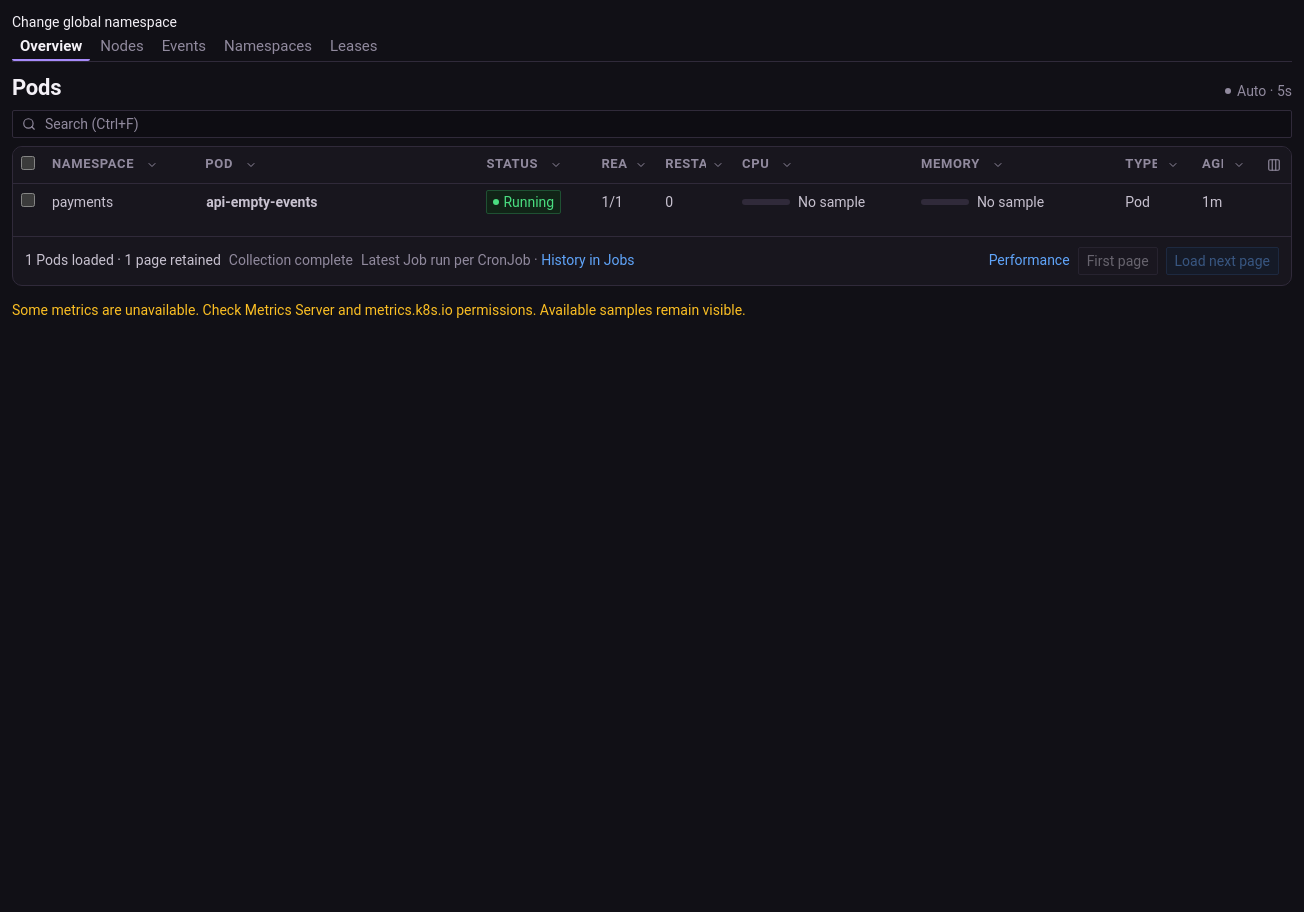
Test case: read-only resource pages › opens a Pod whose relatedEvents is null without blanking the page
What coordinates should you click on to do the following:
click the button with aria-label "Open Pod api-empty-events in payments"
I would click on:
 (262, 202)
Its box is [197, 188, 326, 216].
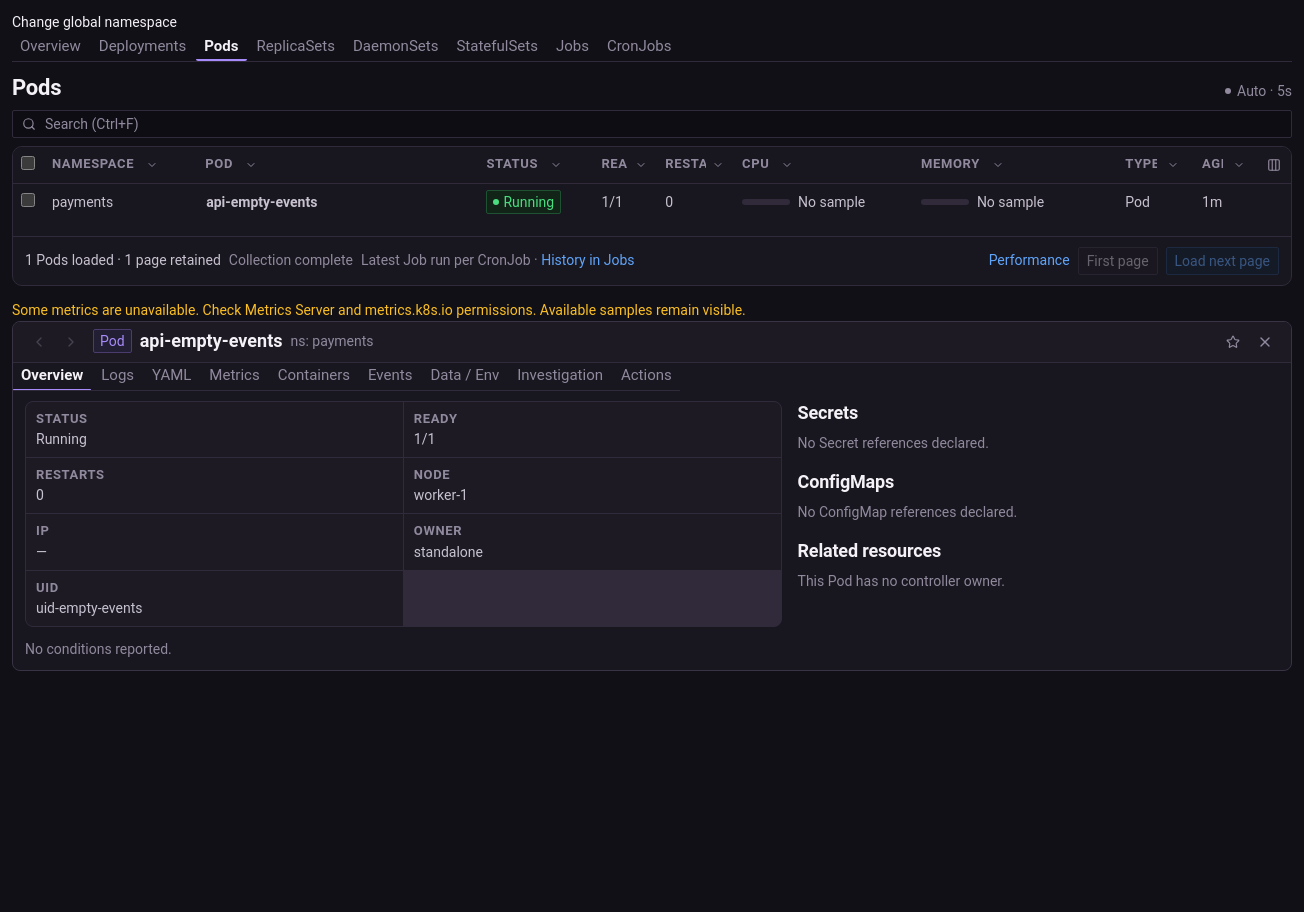
Expected: the heading "Pods" is shown, [12, 74, 61, 102]
Now the text "uid-empty-events" is shown, box [36, 600, 142, 616]
Now the element "Pod api-empty-events" shows "This Pod has no controller owner.", box [798, 573, 1005, 589]
